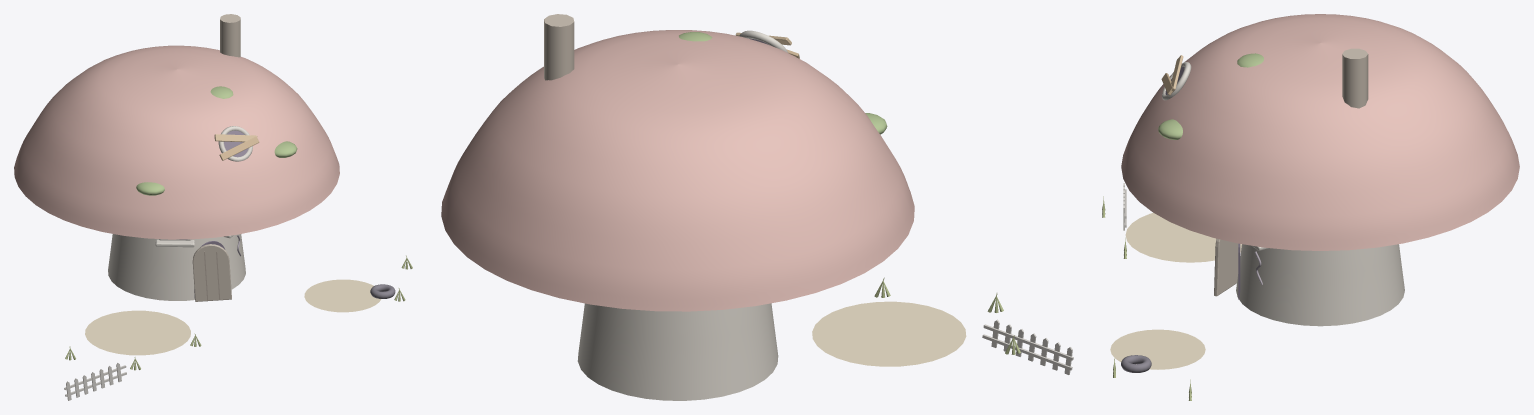
File: building_forest_L01.glb
The picture shows the model from 3 angles, left to right: view 1: azimuth 30°, elevation 25°; view 2: azimuth 150°, elevation 25°; view 3: azimuth 270°, elevation 25°; orthographic projection. The views are drawn at different scales.
Parts seen in each view (by area): view 1: Body, forest_L1; view 2: Body, forest_L1; view 3: Body, forest_L1.
Boxes of the visible parts, x1,y1,x2,y2 form: Body: (14, 14, 339, 301); forest_L1: (64, 255, 412, 400); Body: (441, 14, 914, 400); forest_L1: (812, 277, 1073, 374); Body: (1121, 14, 1519, 326); forest_L1: (1102, 183, 1241, 400).
Bounding box in the file's own units: 24.39 × 15.58 × 19.28.
